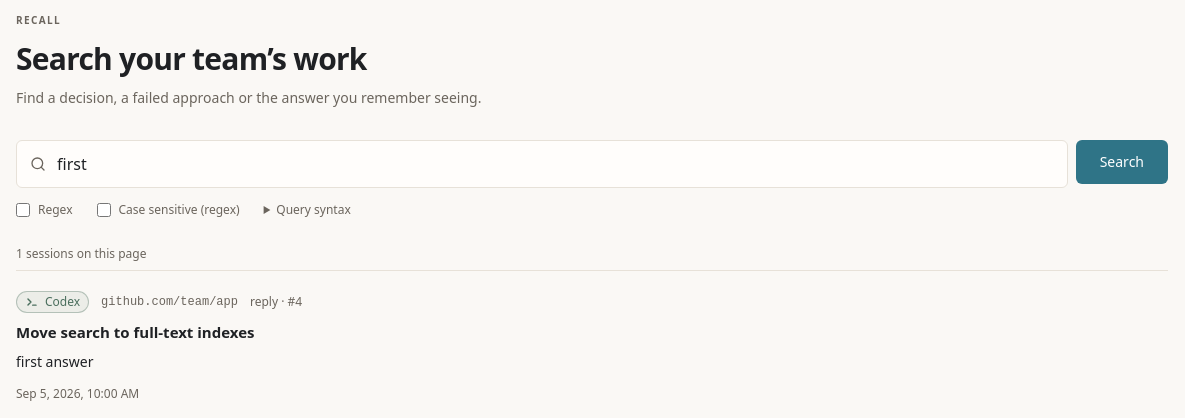
Test: marks results stale instead of wiping them while a new query runs
This screenshot has width=1185, height=418.
Expected: the text "first answer" is shown, top-left (16, 352), bottom-right (94, 371)
Replace the text in the field named "Search query" with "second": (542, 164) top-left (16, 140), bottom-right (1068, 188)
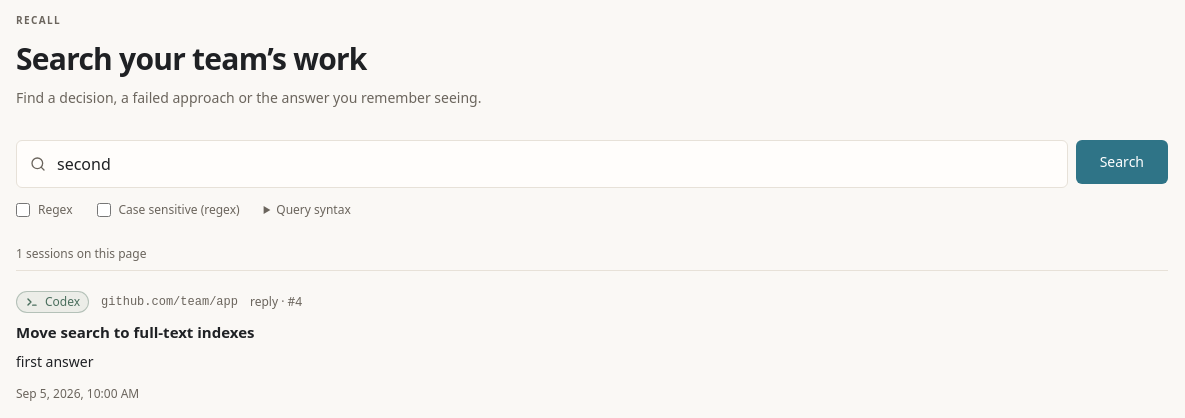
Click the button "Search": (1122, 162) top-left (1076, 140), bottom-right (1168, 184)
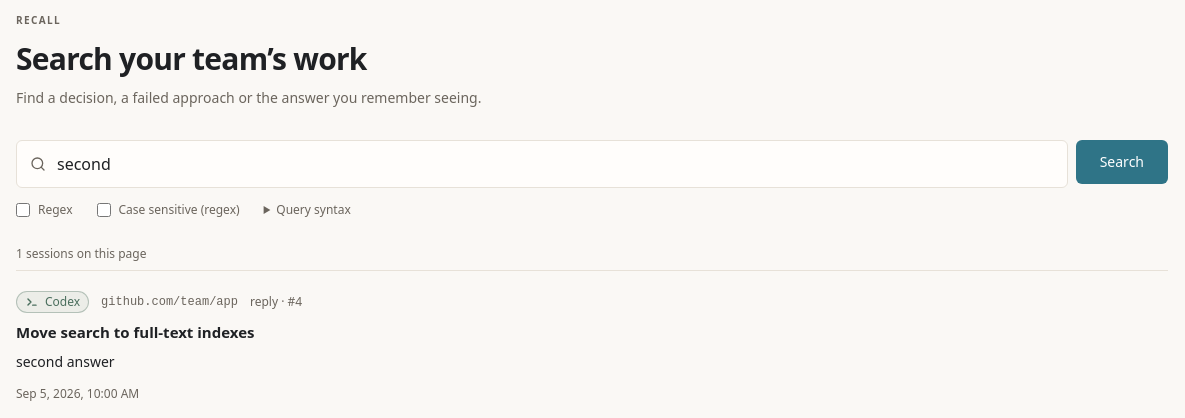
Expected: the text "Updating results — showing the previous matches" is shown, top-left (16, 244), bottom-right (146, 262)
Now the text "second answer" is shown, box top-left (16, 352), bottom-right (115, 371)
